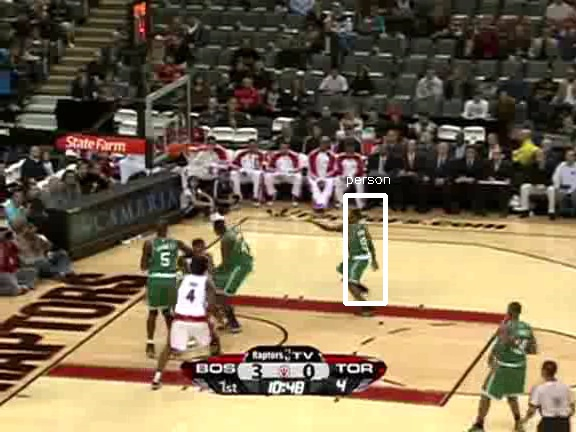person: (344, 215, 378, 296), (343, 215, 377, 296), (345, 215, 379, 296), (344, 214, 378, 295), (344, 216, 378, 297)
target_negative: (144, 323, 492, 393), (258, 244, 463, 308), (447, 104, 559, 170), (353, 395, 361, 430), (568, 203, 569, 411), (116, 46, 132, 56)
